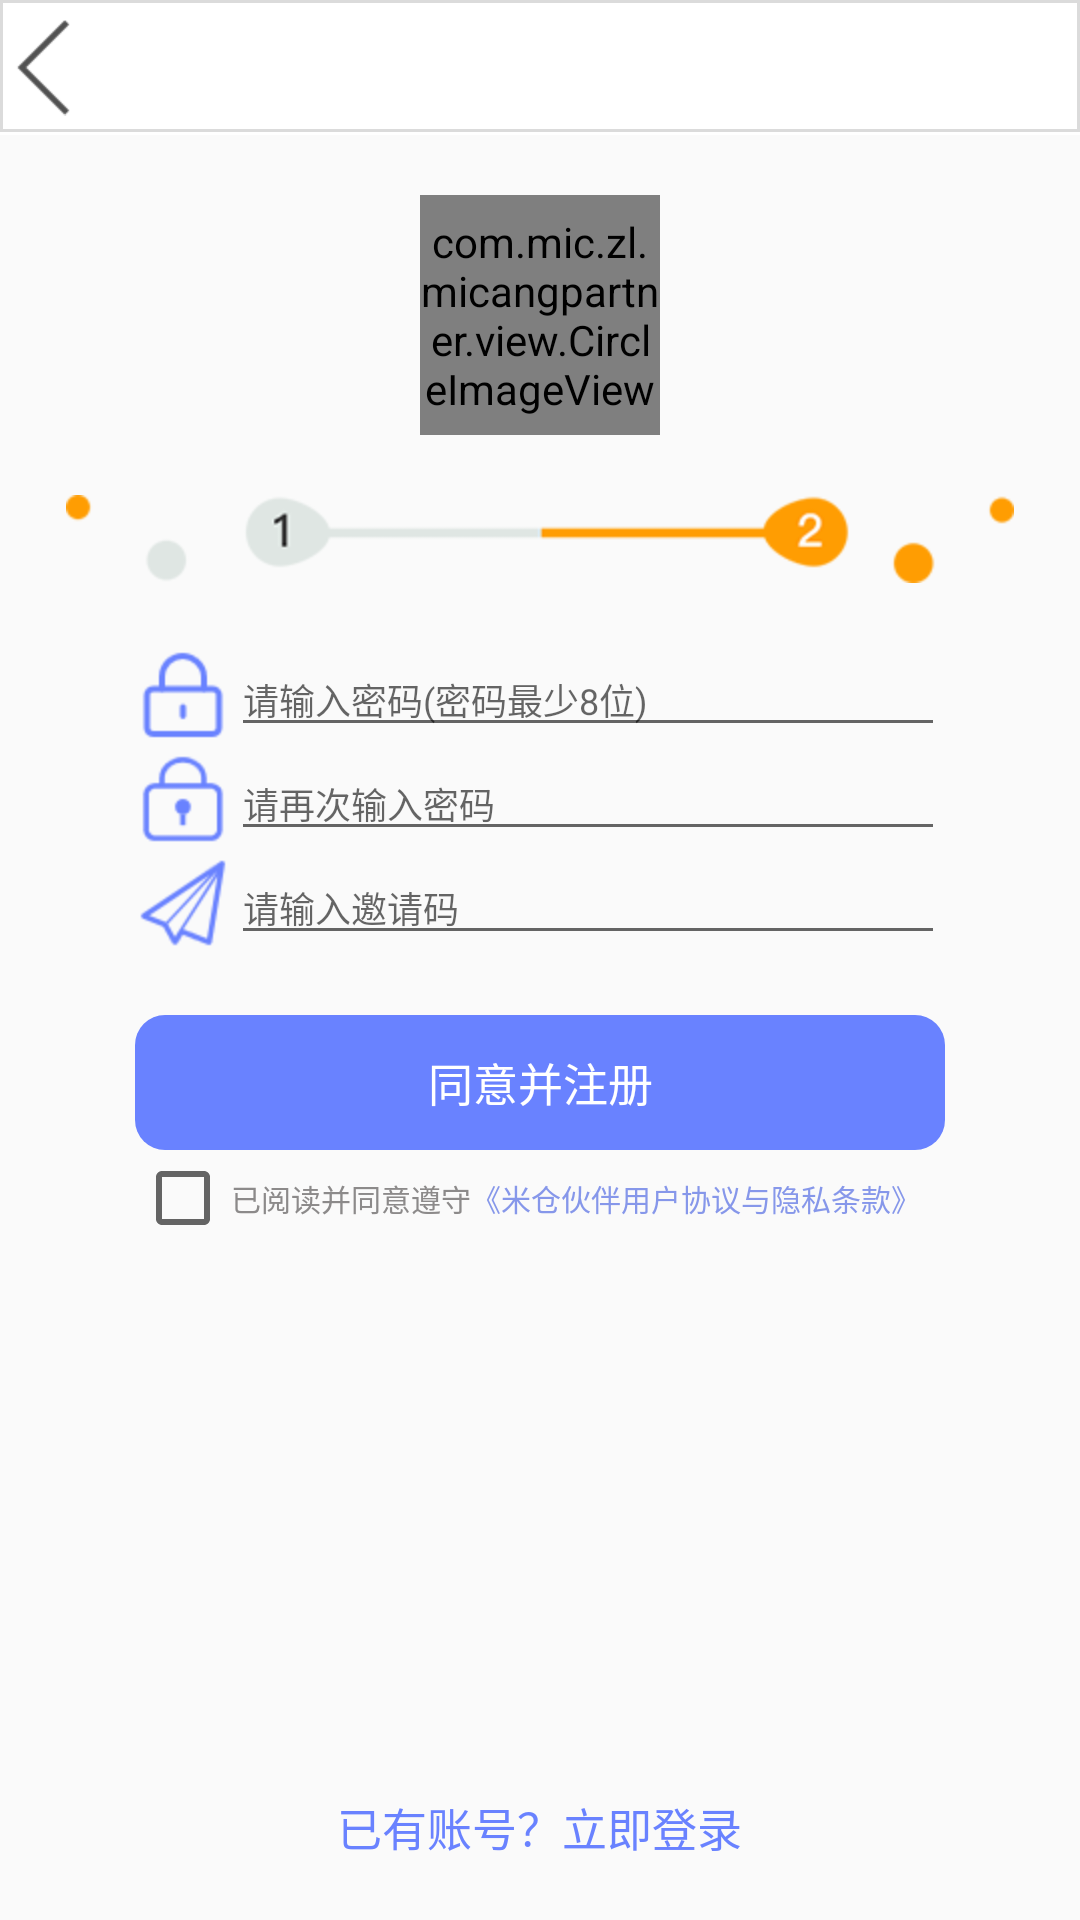

Icons on this 1080*1920 Android screen, each with its box as bbox=(x1, y1, x2, y2):
plane: bbox=(140, 860, 226, 946)
